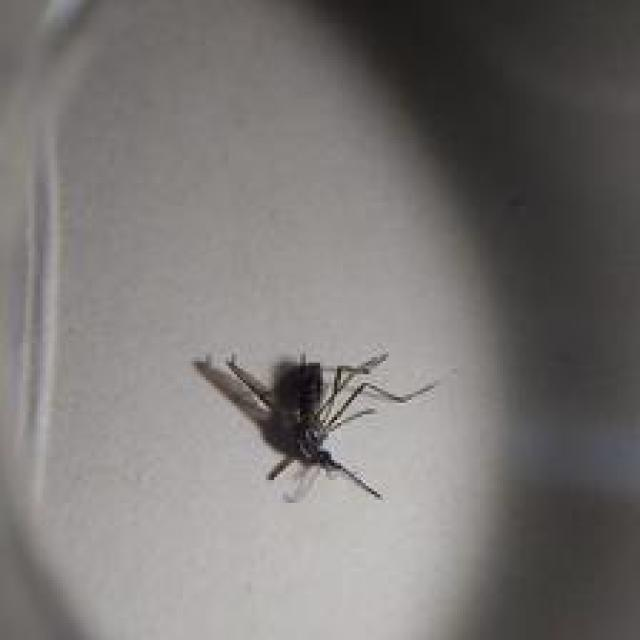Aedes albopictus: (191, 347, 440, 504)
